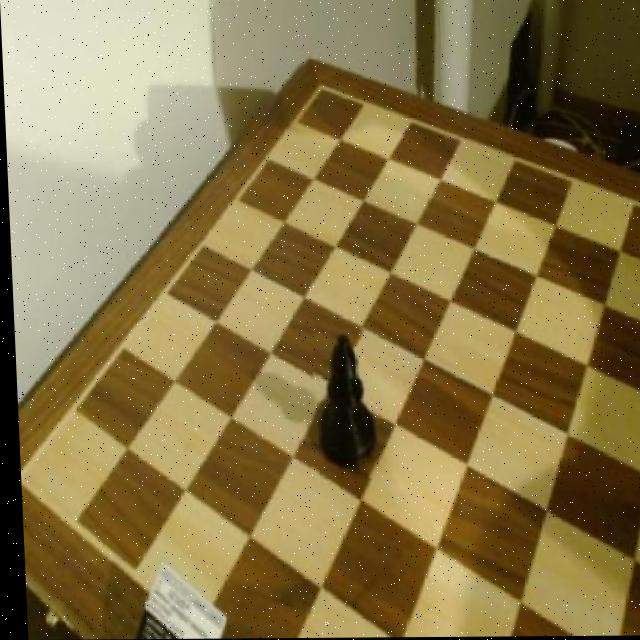bishop: (304, 329, 378, 479)
